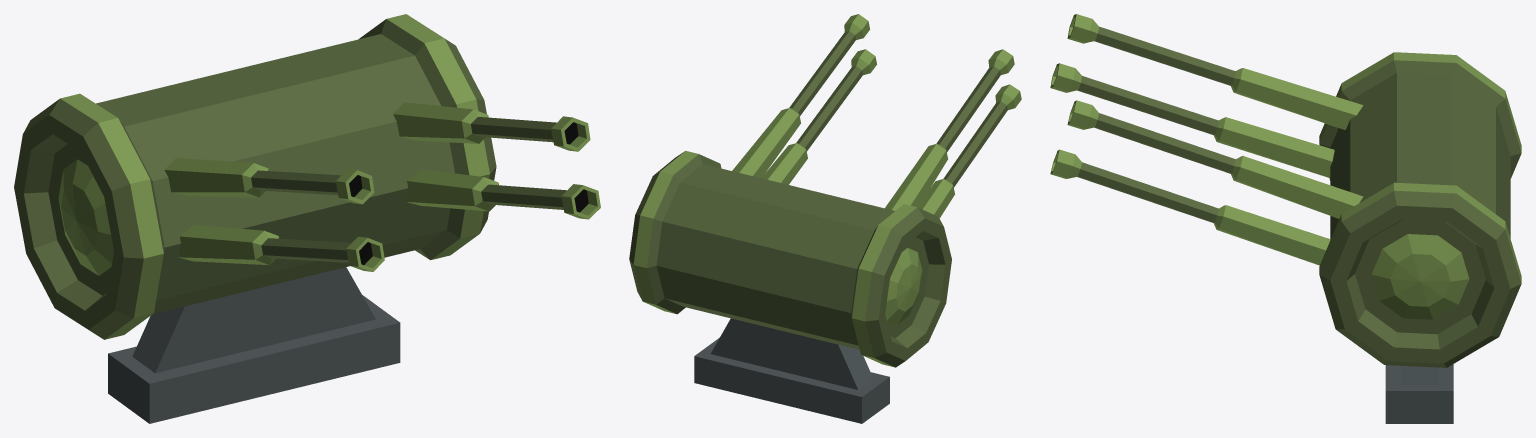
File: Weapon_1.FBX
3 views of the same model, side by side, from view 1: azimuth 30°, elevation 25°; view 2: azimuth 150°, elevation 25°; view 3: azimuth 270°, elevation 25° (orthographic). The views are drawn at different scales.
Visible parts, largest first — view 1: weapon_1; view 2: weapon_1; view 3: weapon_1.
Part boxes in pixels (x1,y1,x2,y2): weapon_1: (14, 14, 600, 423); weapon_1: (629, 14, 1021, 423); weapon_1: (1050, 14, 1521, 423).
Size of the model in its own units: 1.35 by 1.34 by 1.8.
Materials: 1 (1 with a texture image).
